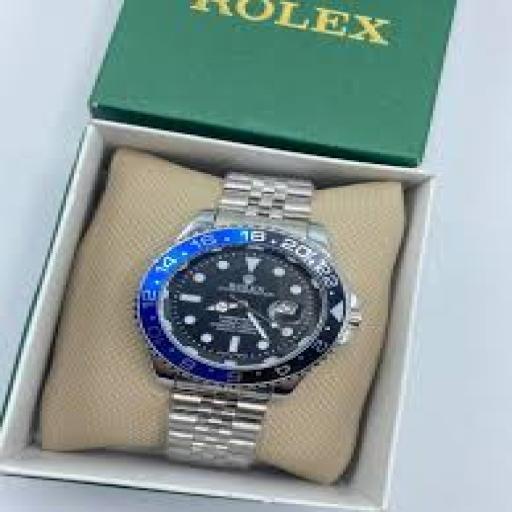KolSaati: (108, 146, 364, 485)
